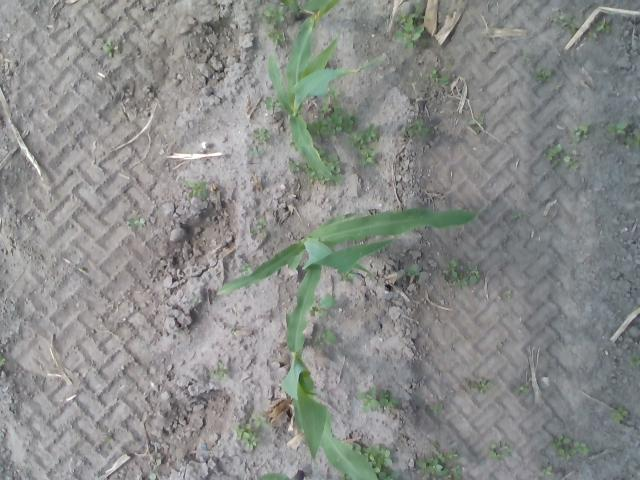Maize: (217, 208, 479, 294), (269, 0, 385, 184), (280, 265, 378, 480), (280, 0, 329, 20), (258, 470, 305, 480)
Weeds: (395, 18, 424, 48), (416, 458, 448, 476), (358, 387, 379, 413), (316, 326, 336, 350), (318, 292, 337, 316), (324, 113, 343, 136), (262, 6, 284, 25), (604, 120, 628, 136), (208, 362, 228, 380), (552, 435, 570, 455), (409, 3, 428, 20), (564, 150, 580, 170), (308, 120, 328, 136), (188, 181, 206, 198), (378, 449, 394, 468), (250, 413, 270, 428), (242, 432, 257, 452), (235, 423, 252, 440), (570, 126, 588, 142), (614, 407, 630, 424), (348, 131, 364, 148), (103, 40, 118, 58), (547, 145, 562, 163), (366, 444, 382, 460), (571, 442, 589, 456), (469, 265, 482, 284), (361, 146, 376, 162), (470, 118, 486, 133), (269, 28, 286, 42), (596, 18, 610, 34), (328, 152, 342, 168), (344, 114, 354, 136), (366, 124, 378, 142), (266, 97, 280, 112), (625, 132, 640, 146), (453, 276, 468, 290), (462, 380, 478, 393), (501, 441, 513, 458), (380, 388, 390, 408), (478, 379, 492, 393), (254, 128, 270, 140), (404, 266, 420, 278), (378, 471, 399, 480), (489, 442, 500, 459), (127, 218, 145, 228), (394, 10, 406, 24), (539, 466, 553, 478), (328, 86, 340, 100), (288, 160, 302, 172), (452, 464, 462, 480), (442, 269, 458, 279), (239, 262, 252, 274), (537, 69, 551, 80), (417, 120, 428, 134), (429, 402, 444, 412), (388, 397, 401, 408), (508, 210, 522, 220), (516, 386, 530, 396), (552, 11, 564, 22), (256, 219, 268, 230), (321, 102, 332, 114), (252, 147, 264, 157), (320, 175, 330, 185), (438, 452, 447, 463), (341, 274, 354, 281), (449, 258, 458, 268), (308, 172, 316, 183), (448, 452, 458, 460), (630, 358, 640, 366), (439, 78, 450, 85), (251, 229, 258, 240), (497, 342, 504, 352), (432, 70, 438, 80), (0, 354, 5, 366), (524, 55, 531, 62), (228, 327, 236, 333), (507, 290, 512, 298), (604, 140, 611, 144), (360, 158, 364, 165)
